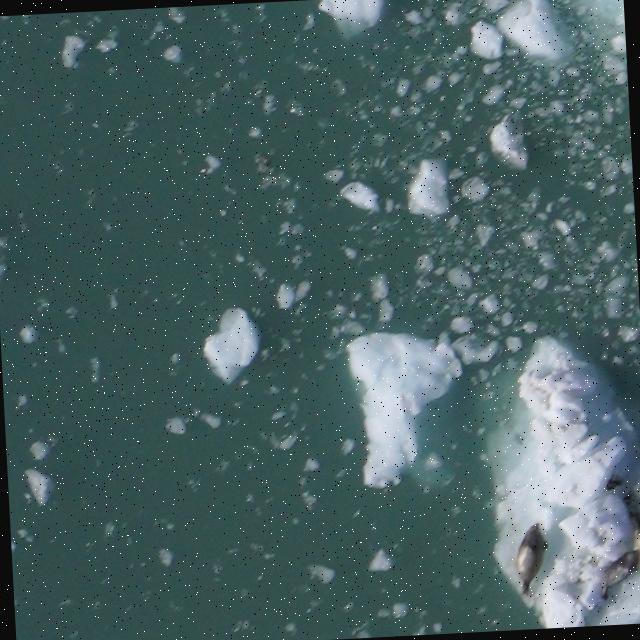seal: (510, 519, 554, 599), (593, 546, 640, 604), (616, 489, 640, 590)
